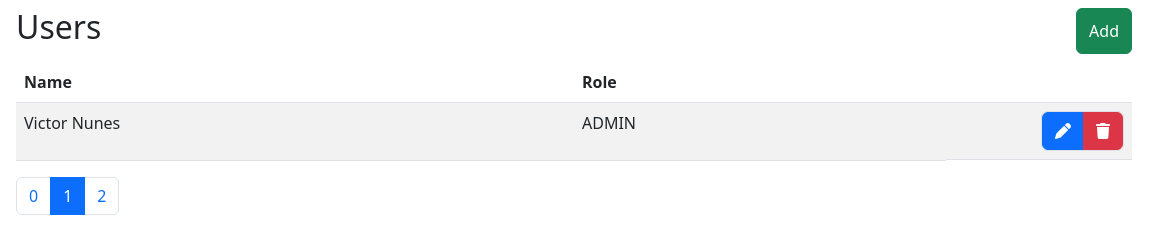
Scenario: UsersList test › should change table's content when click on next pagination item
Expected: the row with test id "users-table-row-user-1" shows "Victor Nunes", [24,112,120,134]
Expected: the row with test id "users-table-row-user-1" shows "ADMIN", [582,112,636,134]
Click the button with test id "users-table-pagination-item-next" at {"x": 102, "y": 196}, box [84,177,120,215]
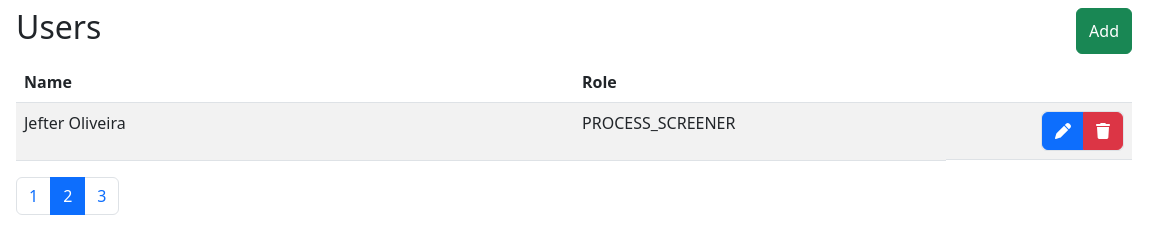
Expected: the row with test id "users-table-row-user-1" is gone
Expected: the row with test id "users-table-row-user-2" shows "Jefter Oliveira", [24,112,126,134]
Expected: the row with test id "users-table-row-user-2" shows "PROCESS_SCREENER", [582,112,736,134]
